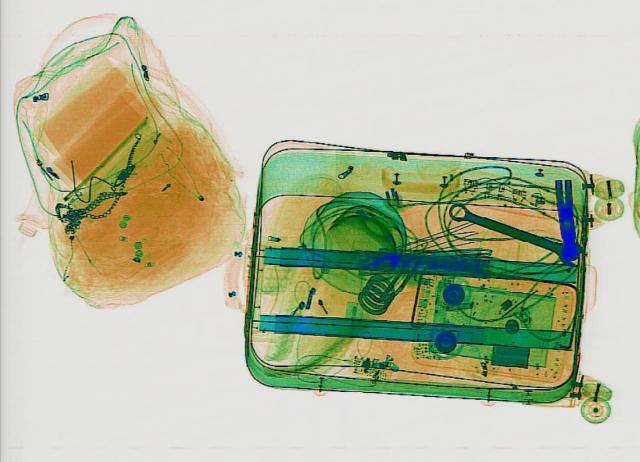Wrench: (439, 195, 589, 265)
